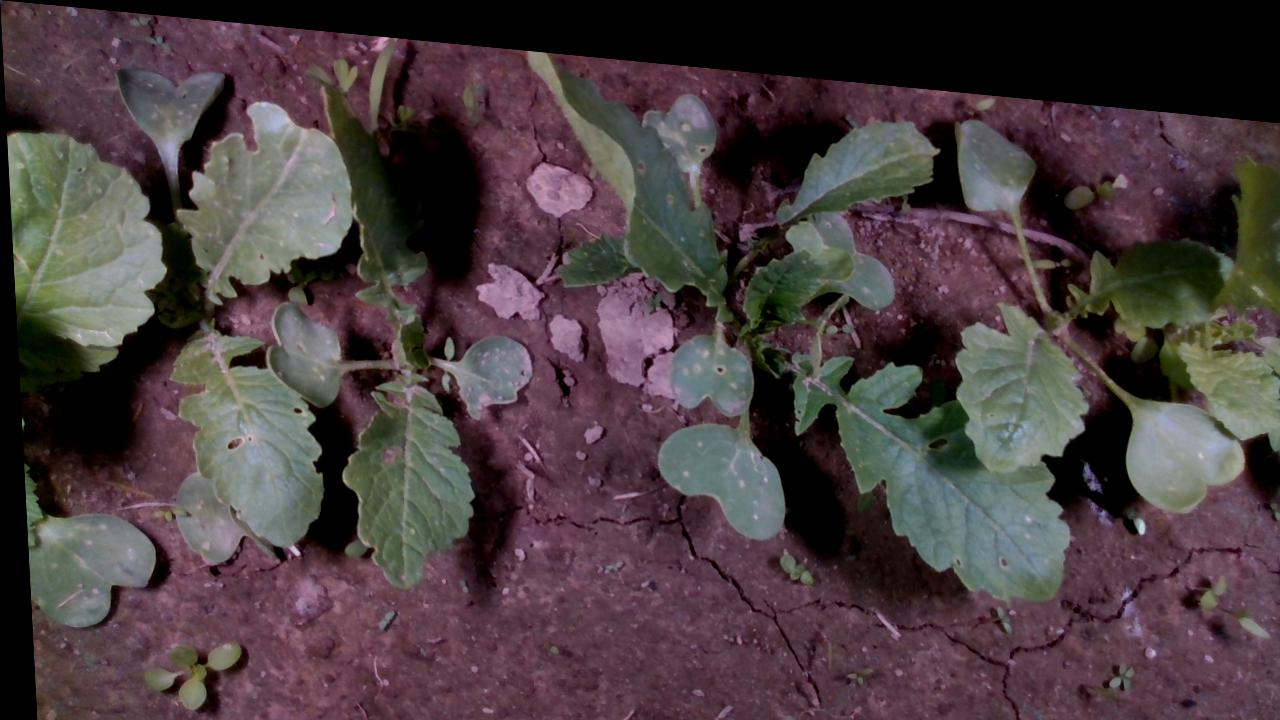weed: (1058, 149, 1115, 190), (772, 535, 809, 570), (1191, 547, 1221, 589), (1229, 588, 1269, 619), (455, 71, 480, 118), (1101, 637, 1129, 671), (836, 647, 867, 670), (1001, 699, 1032, 719), (990, 582, 1007, 616), (1263, 473, 1277, 498)
